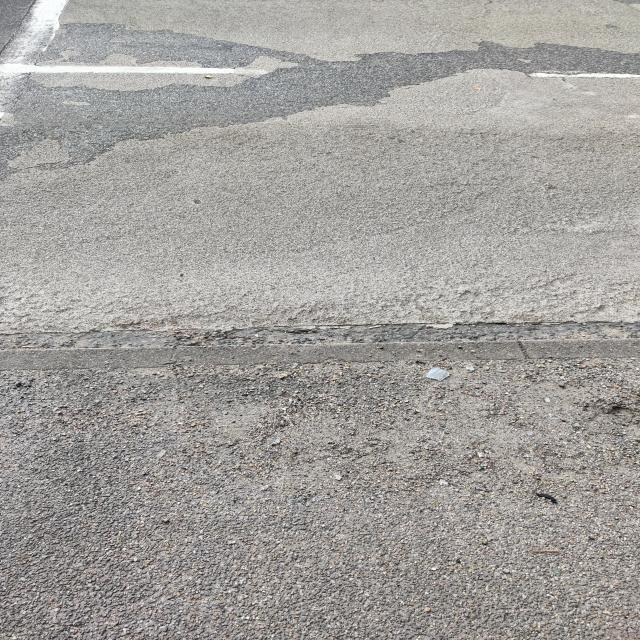litter: (423, 361, 455, 384)
